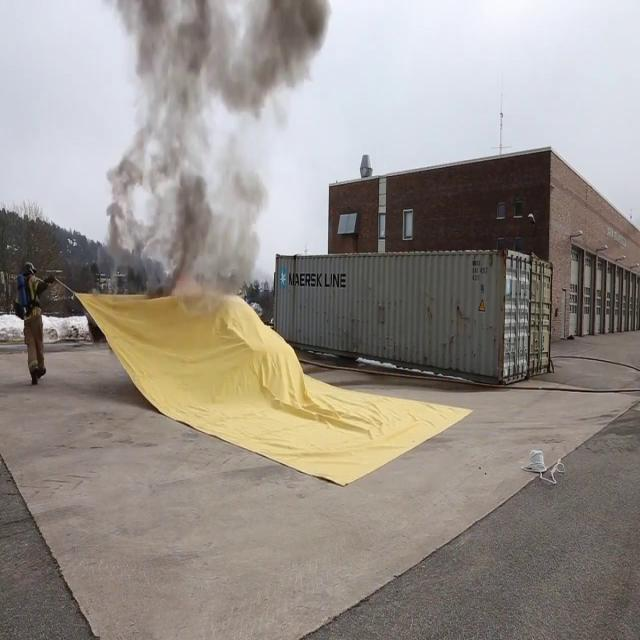Smoke: (96, 0, 330, 284)
